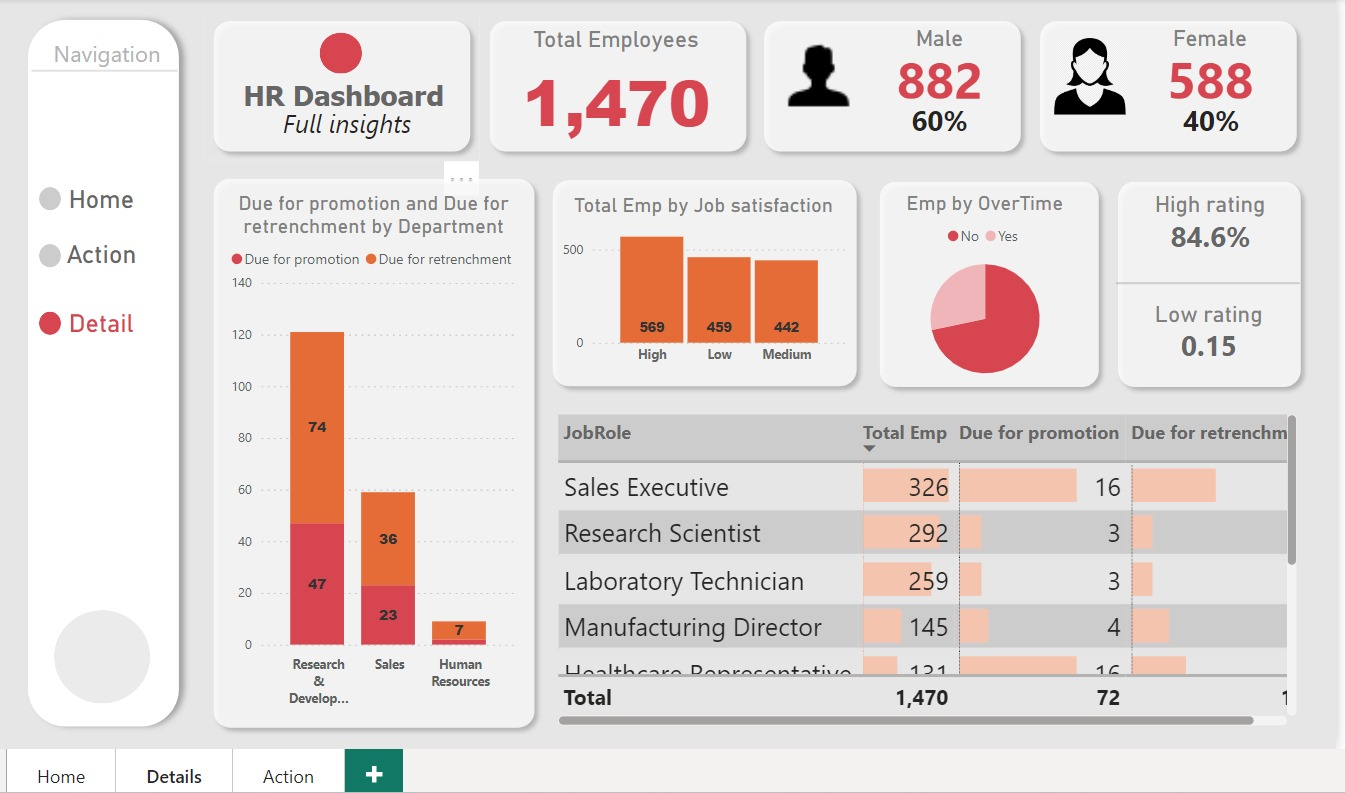

This screenshot's page, from the dashboard's own definition file:
{"tool":"powerbi","page":{"name":"Details","canvas":[1280,720],"ordinal":1},"visuals":[{"type":"shape","box":[16.5,9.6,166.5,699.2],"z":0},{"type":"shape","box":[195.4,12.4,264.3,143.1],"z":1000},{"type":"shape","box":[459.7,12.4,264.3,143.1],"z":2000},{"type":"shape","box":[724,12.4,264.3,143.1],"z":3000},{"type":"shape","box":[988.2,12.4,264.3,143.1],"z":4000},{"type":"shape","box":[195.2,164.4,325.9,544.6],"z":5000},{"type":"shape","box":[521.1,165.9,309.7,215.8],"z":6000},{"type":"shape","box":[833.6,166.7,228.3,215],"z":7000},{"type":"shape","box":[1063.1,166.7,193.3,215],"z":8000},{"type":"textbox","box":[209.7,71.2,238.7,51.4],"z":9000},{"type":"textbox","box":[36.9,33,130.5,51.4],"z":10000},{"type":"textbox","box":[209.7,97.6,251.9,55.4],"z":11000},{"type":"shape","box":[305.9,33,40.9,39.6],"z":12000},{"type":"card","title":"Total Employees","fields":{"Values":["All Measures.Total Emp"]},"box":[468,27.5,246.4,112.9],"z":13000},{"type":"card","title":"Male","fields":{"Values":["All Measures.Male"]},"box":[814.8,26.2,170.7,75.7],"z":14000},{"type":"card","fields":{"Values":["All Measures.Male %"]},"box":[834.1,90.8,132.1,55.1],"z":15000},{"type":"card","title":"Female","fields":{"Values":["All Measures.Female"]},"box":[1068.7,26.2,183.1,75.7],"z":16000},{"type":"card","fields":{"Values":["All Measures.Female %"]},"box":[1083.9,90.8,152.8,53.7],"z":17000},{"type":"image","box":[736.3,26.2,95,90.8],"z":18000},{"type":"image","box":[1004.7,33,79.8,84],"z":19000},{"type":"columnChart","fields":{"Category":["HR Analytics Data.Department"],"Y":["All Measures.Due for promotion","All Measures.Due for retirment"]},"box":[216.3,185.9,284.8,501.1],"z":20000},{"type":"tableEx","fields":{"Values":["HR Analytics Data.JobRole","All Measures.Total Emp","All Measures.Due for promotion","All Measures.Due for retirment"]},"box":[529.5,393.8,718.8,308.1],"z":21000},{"type":"columnChart","fields":{"Category":["HR Analytics Data.Job satisfaction"],"Y":["All Measures.Total Emp"]},"box":[532.8,186.4,281.8,173.2],"z":22000},{"type":"pieChart","title":"Emp by OverTime","fields":{"Category":["HR Analytics Data.OverTime"],"Y":["All Measures.Total Emp"]},"box":[820.3,186,248.9,192.1],"z":23000},{"type":"card","title":"High rating","fields":{"Values":["All Measures.% High emp rating"]},"box":[1066.7,186,186,61.6],"z":24000},{"type":"card","title":"Low rating","fields":{"Values":["All Measures.% Low emp rating"]},"box":[1065.5,289.9,186,61.6],"z":25000},{"type":"shape","box":[1070.1,265.7,176.1,14.7],"z":26000},{"type":"shape","box":[36.9,300.7,21.1,22.4],"z":27000},{"type":"actionButton","title":"Detail","box":[27.7,298,139.8,39.6],"z":28000},{"type":"shape","box":[36.9,236,21.1,22.4],"z":29000},{"type":"actionButton","title":"Action","box":[27.7,232.1,139.8,58],"z":30000},{"type":"shape","box":[36.9,180.7,21.1,22.4],"z":31000},{"type":"actionButton","title":"Home","box":[27.7,178,139.8,54.1],"z":32000},{"type":"shape","box":[51.4,586.8,92.3,89.7],"z":33000},{"type":"shape","box":[30.2,61.6,140.1,15.7],"z":34000}]}

Visuals, with their boxes on the page's 1280x720 design canvas (x1, y1, x2, y2). These are canvas units, not pixel positions in the 1345x793 screenshot, which may show the page scaled, cropped or inside an application window:
shape: [16, 10, 183, 709]
shape: [195, 12, 460, 156]
shape: [460, 12, 724, 156]
shape: [724, 12, 988, 156]
shape: [988, 12, 1252, 156]
shape: [195, 164, 521, 709]
shape: [521, 166, 831, 382]
shape: [834, 167, 1062, 382]
shape: [1063, 167, 1256, 382]
textbox: [210, 71, 448, 123]
textbox: [37, 33, 167, 84]
textbox: [210, 98, 462, 153]
shape: [306, 33, 347, 73]
"Total Employees" card: [468, 28, 714, 140]
"Male" card: [815, 26, 986, 102]
card - All Measures.Male %: [834, 91, 966, 146]
"Female" card: [1069, 26, 1252, 102]
card - All Measures.Female %: [1084, 91, 1237, 144]
image: [736, 26, 831, 117]
image: [1005, 33, 1084, 117]
columnChart - HR Analytics Data.Department x All Measures.Due for promotion: [216, 186, 501, 687]
tableEx - HR Analytics Data.JobRole x All Measures.Total Emp: [530, 394, 1248, 702]
columnChart - HR Analytics Data.Job satisfaction x All Measures.Total Emp: [533, 186, 815, 360]
"Emp by OverTime" pieChart: [820, 186, 1069, 378]
"High rating" card: [1067, 186, 1253, 248]
"Low rating" card: [1066, 290, 1252, 352]
shape: [1070, 266, 1246, 280]
shape: [37, 301, 58, 323]
"Detail" actionButton: [28, 298, 168, 338]
shape: [37, 236, 58, 258]
"Action" actionButton: [28, 232, 168, 290]
shape: [37, 181, 58, 203]
"Home" actionButton: [28, 178, 168, 232]
shape: [51, 587, 144, 676]
shape: [30, 62, 170, 77]
